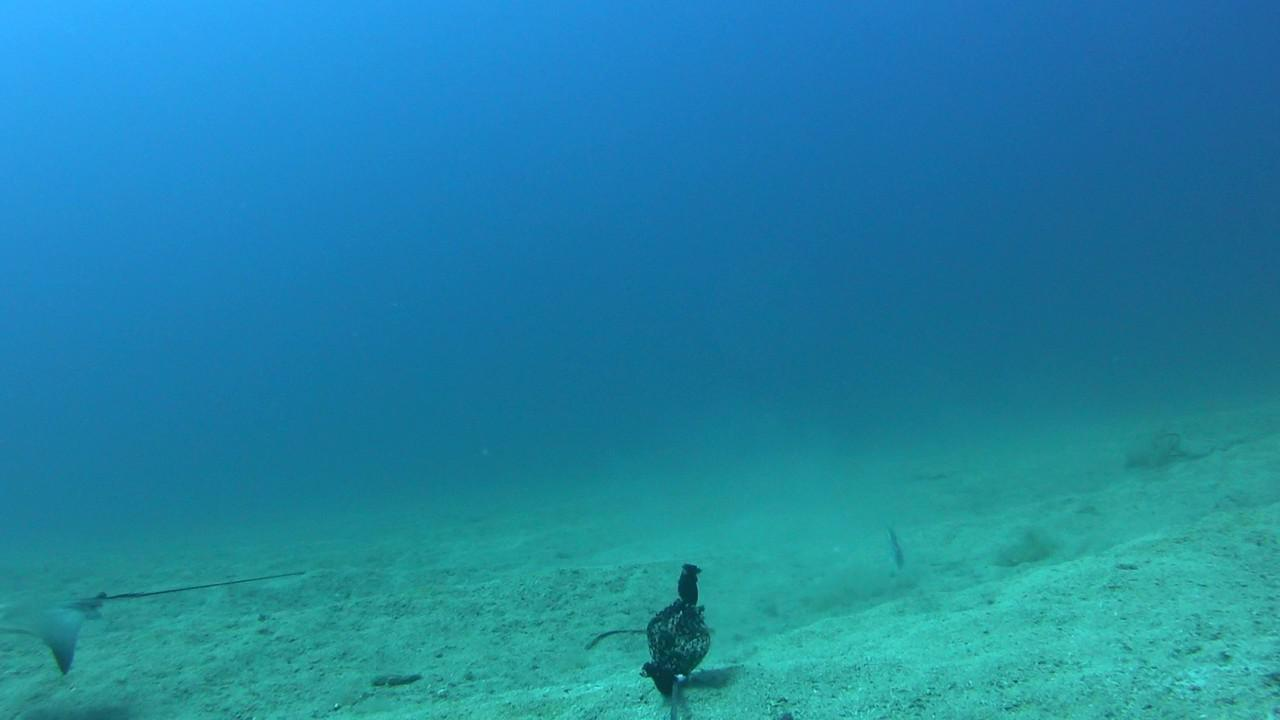myliobatis: (1, 556, 318, 678)
